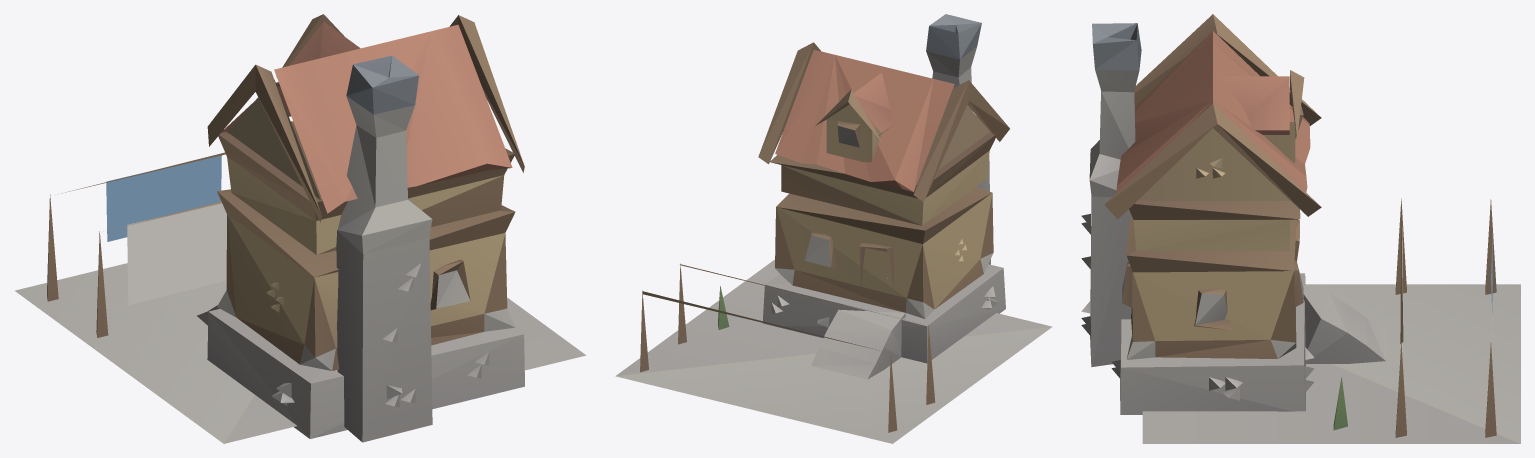
The model's file is weaver_linen.lite.glb.
3 views of the same model, side by side, from view 1: azimuth 30°, elevation 25°; view 2: azimuth 150°, elevation 25°; view 3: azimuth 270°, elevation 25° (orthographic). The views are drawn at different scales.
Parts seen in each view (by area): view 1: weaver_linen; view 2: weaver_linen; view 3: weaver_linen.
Part boxes in pixels (<box>): weaver_linen: <box>15,14,586,443</box>; weaver_linen: <box>615,14,1052,443</box>; weaver_linen: <box>1081,14,1520,443</box>.
Bounding box in the file's own units: 1.9 × 1.78 × 2.21.
